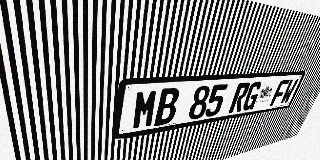5: (204, 84, 228, 118)
8: (187, 85, 212, 120)
B: (154, 87, 181, 126)
F: (269, 79, 290, 106)
G: (241, 81, 263, 111)
M: (131, 89, 159, 130)
R: (228, 82, 251, 113)
W: (279, 79, 299, 105)
